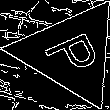P_NE: (36, 25, 105, 81)
